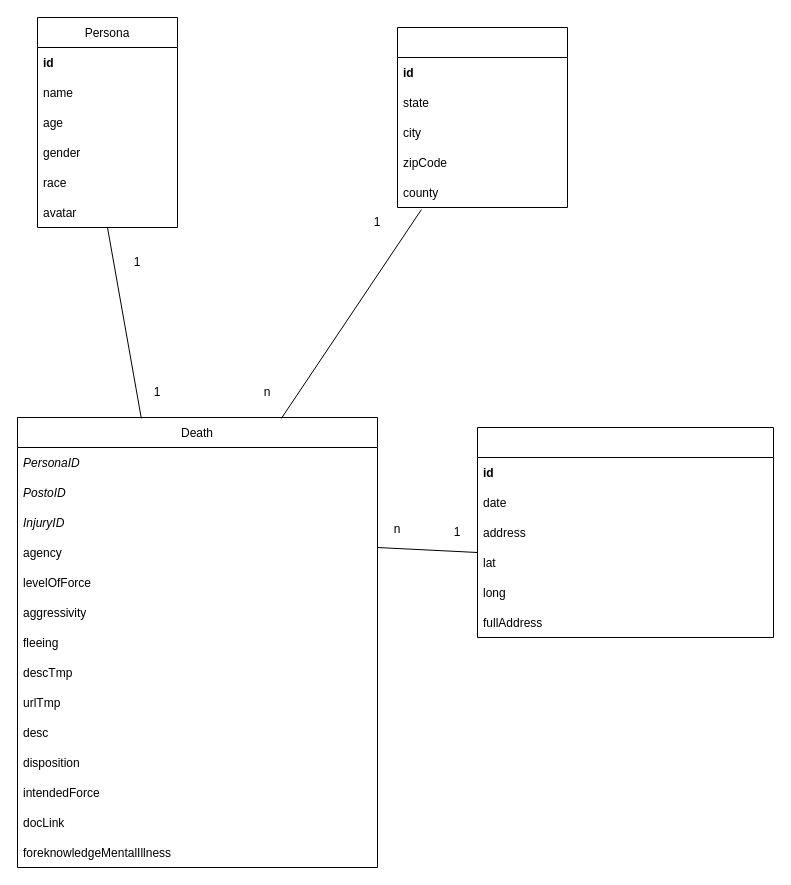
Some shapes in this 791 by 885 pixel diagram are drawn without their labels. Each missing label, with the box of its shape:
Injury: (476, 426, 774, 638)
Posto: (396, 26, 568, 208)
